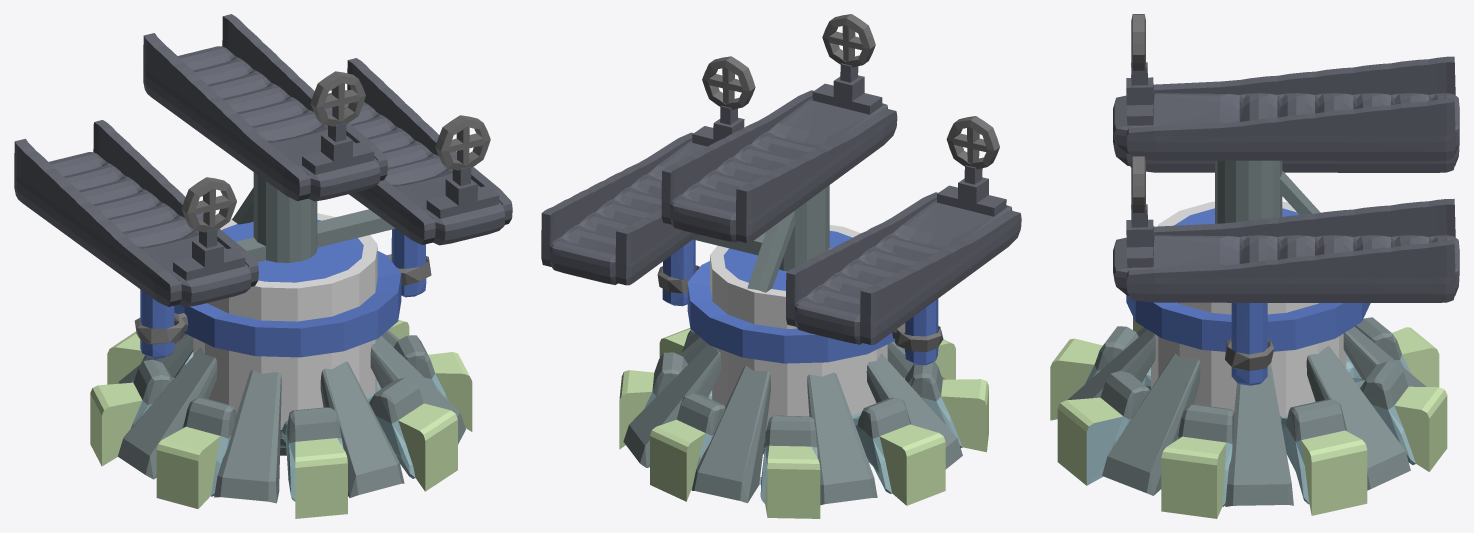
File: rocketlauncher_level9.fbx
3 renders of one model, left to right at view 1: azimuth 30°, elevation 25°; view 2: azimuth 150°, elevation 25°; view 3: azimuth 270°, elevation 25°, orthographic. The views are drawn at different scales.
Visible parts, largest first — view 1: reactor.001, powersupply.007, settlement_place.009, settlement_place.010, powersupply.005, settlement_place.011, focus_point.004, focus_point.002, focus_point.003, holder3.007, holder3.006, holder.006; view 2: powersupply.007, settlement_place.009, settlement_place.010, reactor.001, powersupply.005, settlement_place.011, focus_point.003, focus_point.002, focus_point.004, holder3.007, holder3.006, holder.006; view 3: powersupply.007, settlement_place.009, settlement_place.011, powersupply.005, reactor.001, settlement_place.010, holder3.006, holder.007, focus_point.003, focus_point.004.
Part boxes in pixels (x1,y1,x2,y2): reactor.001: (174, 172, 401, 455); powersupply.007: (90, 320, 472, 518); settlement_place.009: (143, 14, 387, 201); settlement_place.010: (14, 120, 258, 307); powersupply.005: (117, 330, 465, 503); settlement_place.011: (327, 58, 512, 245); focus_point.004: (435, 115, 490, 170); focus_point.002: (181, 177, 236, 232); focus_point.003: (310, 71, 365, 126); holder3.007: (140, 289, 174, 358); holder3.006: (391, 228, 426, 297); holder.006: (135, 313, 188, 344); powersupply.007: (619, 328, 988, 518); settlement_place.009: (661, 63, 897, 242); settlement_place.010: (786, 165, 1021, 344); reactor.001: (687, 185, 895, 453); powersupply.005: (623, 337, 962, 505); settlement_place.011: (541, 105, 744, 285); focus_point.003: (822, 14, 875, 67); focus_point.002: (946, 116, 999, 169); focus_point.004: (702, 56, 755, 109); holder3.007: (905, 299, 938, 365); holder3.006: (662, 239, 695, 306); holder.006: (892, 323, 943, 351); powersupply.007: (1050, 317, 1447, 518); settlement_place.009: (1113, 56, 1459, 160); settlement_place.011: (1113, 198, 1459, 302); powersupply.005: (1068, 326, 1426, 506); reactor.001: (1126, 160, 1370, 415); settlement_place.010: (1113, 75, 1459, 172); holder3.006: (1231, 303, 1267, 385); holder.007: (1225, 338, 1274, 370); focus_point.003: (1131, 14, 1145, 70); focus_point.004: (1131, 156, 1145, 212).
Size of the model in its own units: 84.56 by 94.13 by 82.73.
